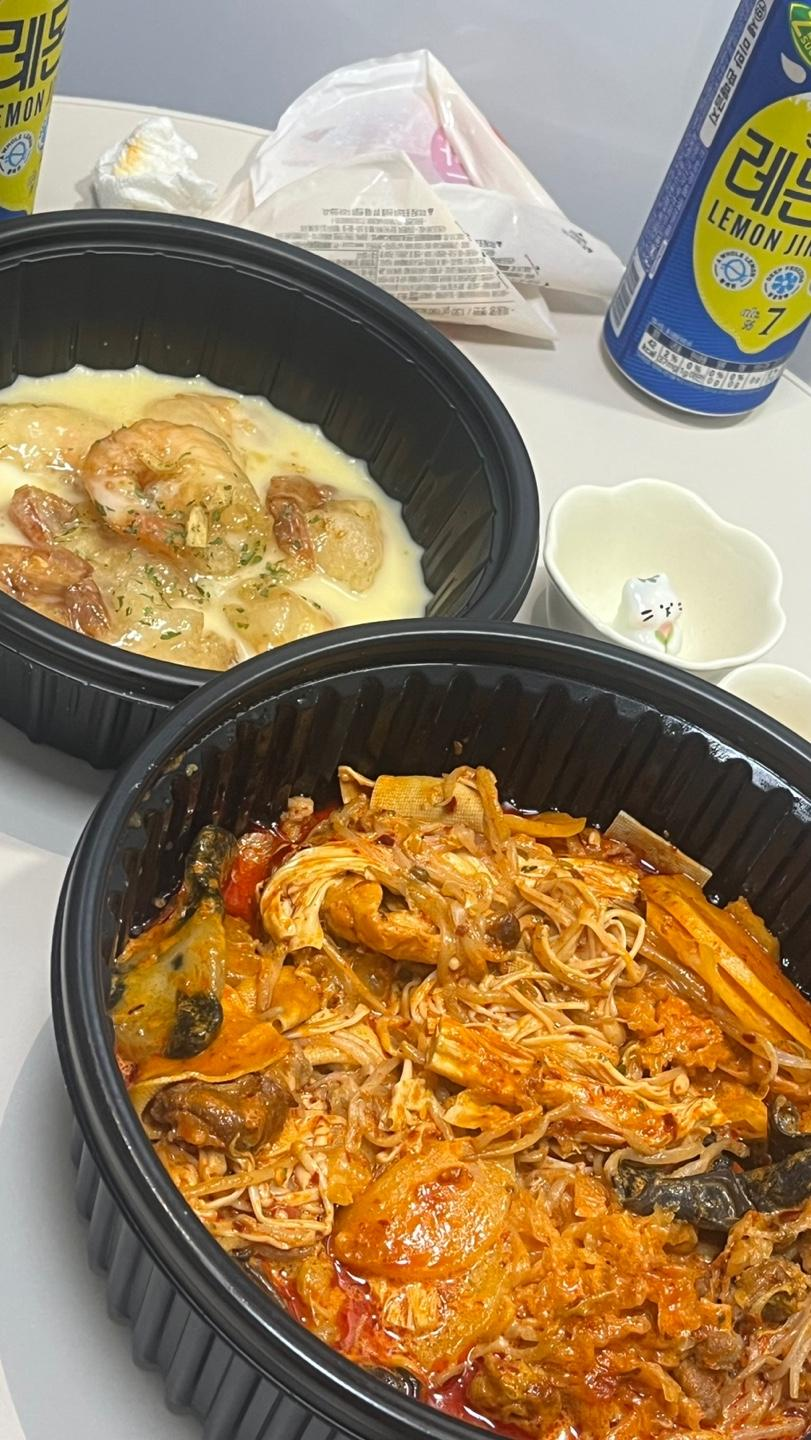Bottle: (606, 0, 810, 416), (0, 0, 68, 219)
Lunch Box: (51, 621, 810, 1439), (0, 211, 539, 768)
